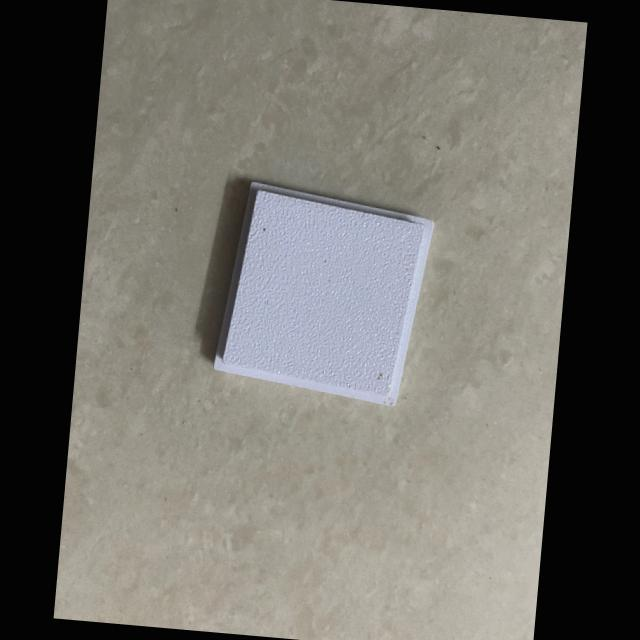RASPBERY PI CAM ENCLOSURE: (211, 178, 436, 408)
